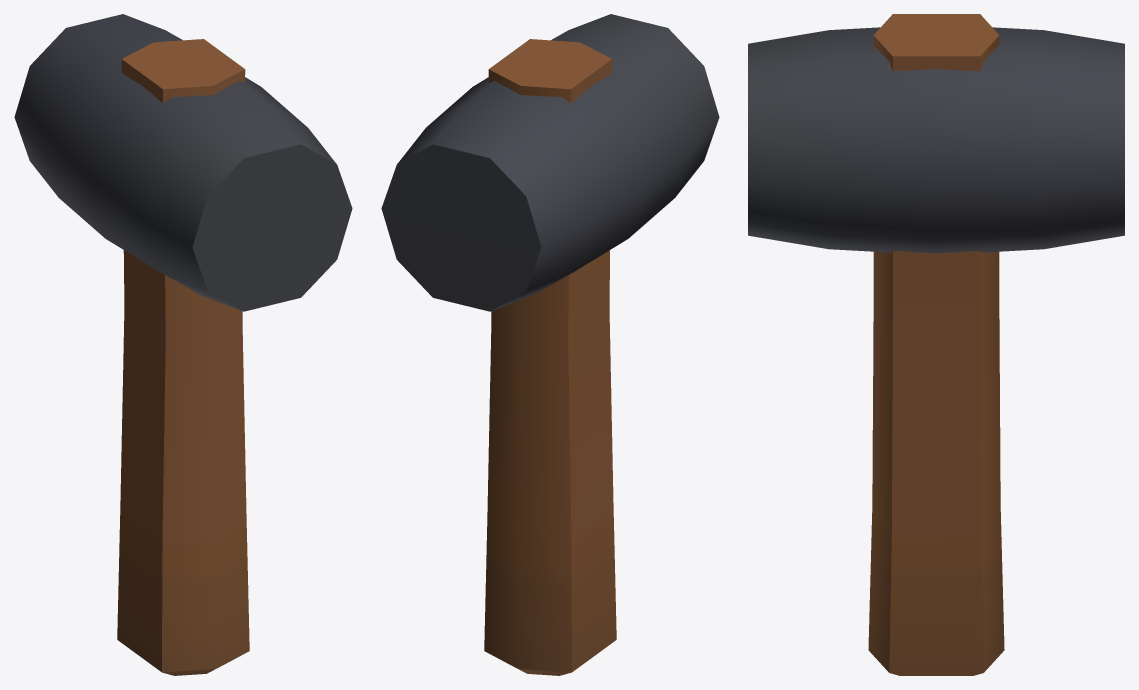
File: Hammer02.fbx
3 views of the same model, side by side, from view 1: azimuth 30°, elevation 25°; view 2: azimuth 150°, elevation 25°; view 3: azimuth 270°, elevation 25° (orthographic). The views are drawn at different scales.
Parts seen in each view (by area): view 1: ColorB, ColorA; view 2: ColorB, ColorA; view 3: ColorB, ColorA.
Boxes of the visible parts, bbox=[...] form: ColorB: bbox=[14, 14, 352, 311]; ColorA: bbox=[117, 39, 249, 675]; ColorB: bbox=[381, 14, 719, 311]; ColorA: bbox=[484, 39, 616, 675]; ColorB: bbox=[748, 27, 1124, 253]; ColorA: bbox=[868, 14, 1004, 675].
Size of the model in its own units: 0.2258 by 0.6645 by 0.3618.
Materials: 2 (2 with a texture image).
